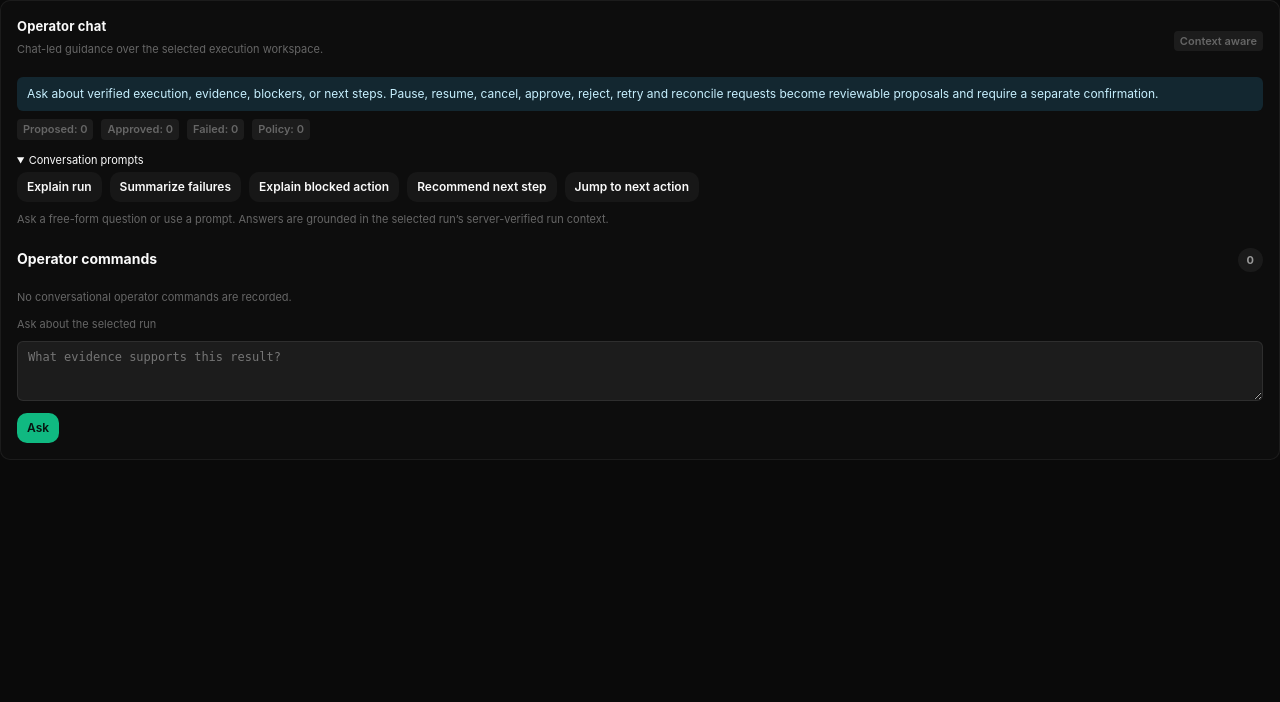
OperatorConsoleChat › shows stale-snapshot warnings and structured recommendations
Click the button "Recommend next step" at {"x": 482, "y": 187}, box [407,172,557,202]
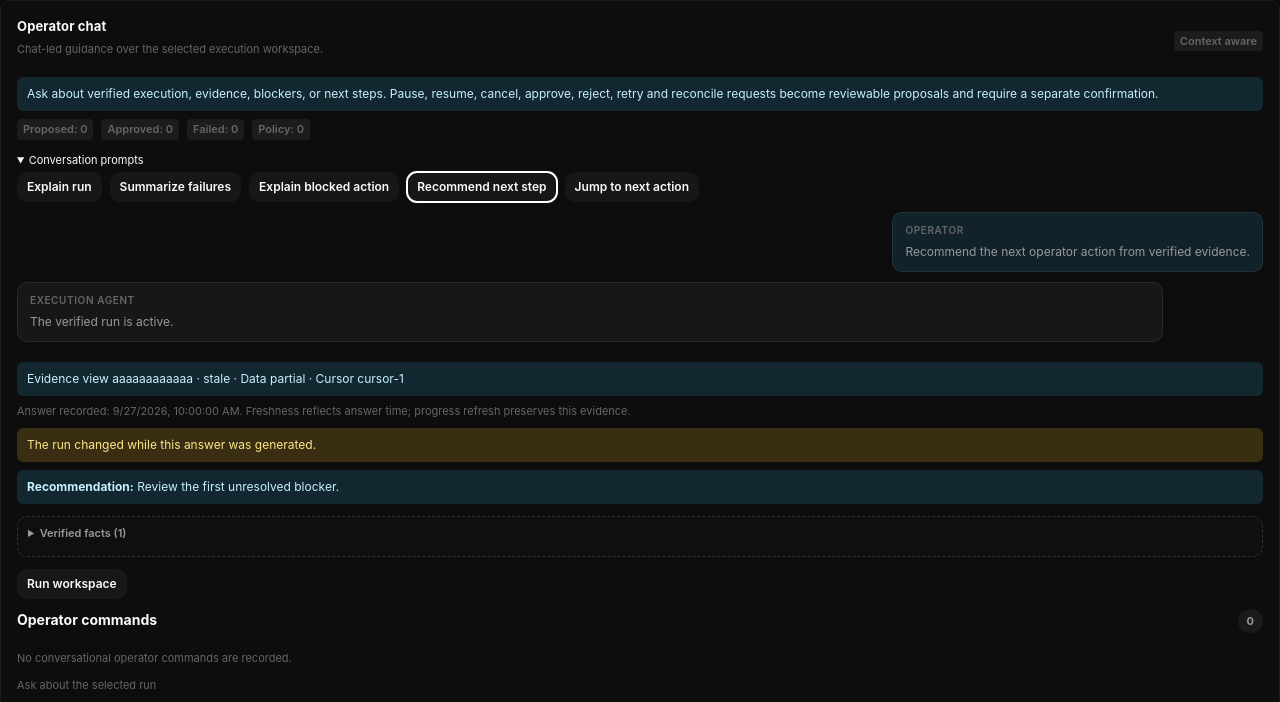
Now the text "Evidence view aaaaaaaaaaaa · stale · Data partial" is shown, box [17,362,1263,396]
Now the text "The run changed while this answer was generated." is shown, box [17,428,1263,462]
Now the text "Recommendation: Review the first unresolved blocker." is shown, box [17,470,1263,504]
